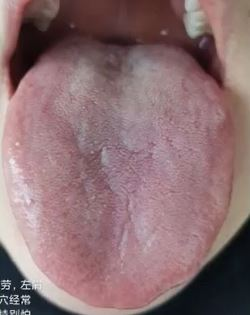baitaishe: (2, 36, 235, 309)
